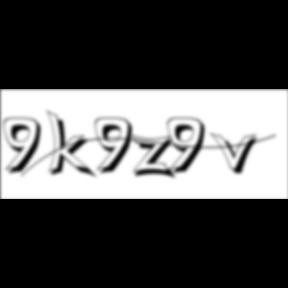9: (94, 117, 140, 177), (3, 117, 48, 177), (168, 117, 212, 177)
k: (46, 108, 100, 181)
v: (211, 131, 265, 177)
z: (132, 134, 180, 182)
